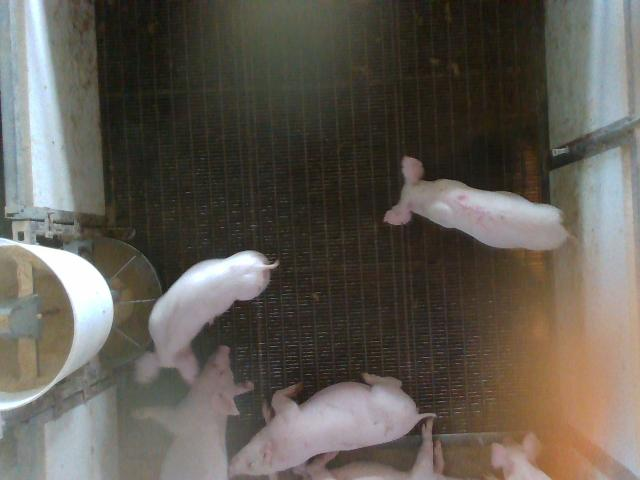pig-5: (385, 156, 569, 249)
